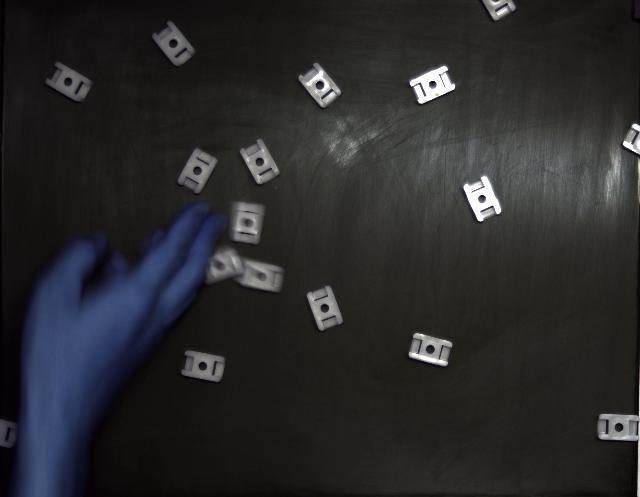second_side: (152, 21, 196, 66), (299, 62, 341, 108), (45, 62, 92, 102), (240, 140, 280, 185), (178, 149, 218, 194), (410, 66, 455, 104), (464, 176, 501, 222), (306, 286, 342, 331), (409, 334, 452, 366), (181, 351, 225, 382), (598, 414, 640, 441)
